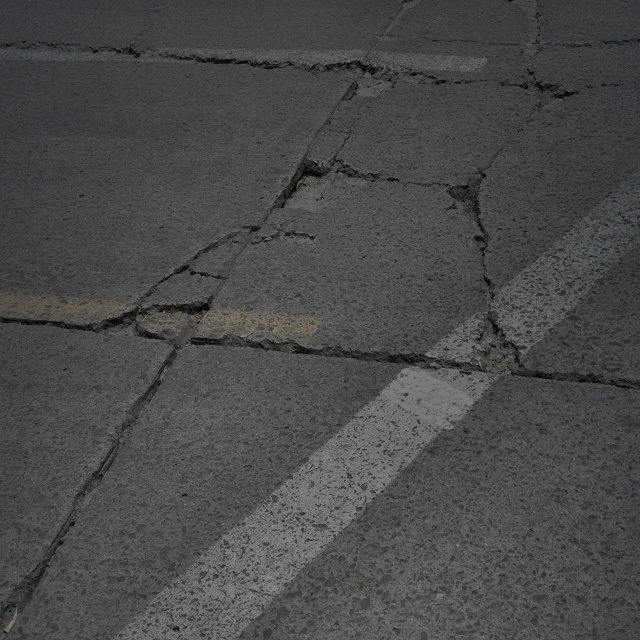pothole: (274, 150, 378, 214), (476, 304, 522, 382), (523, 71, 576, 133), (447, 170, 483, 232), (343, 61, 396, 103), (96, 303, 142, 341), (158, 303, 212, 331), (275, 225, 314, 250)
